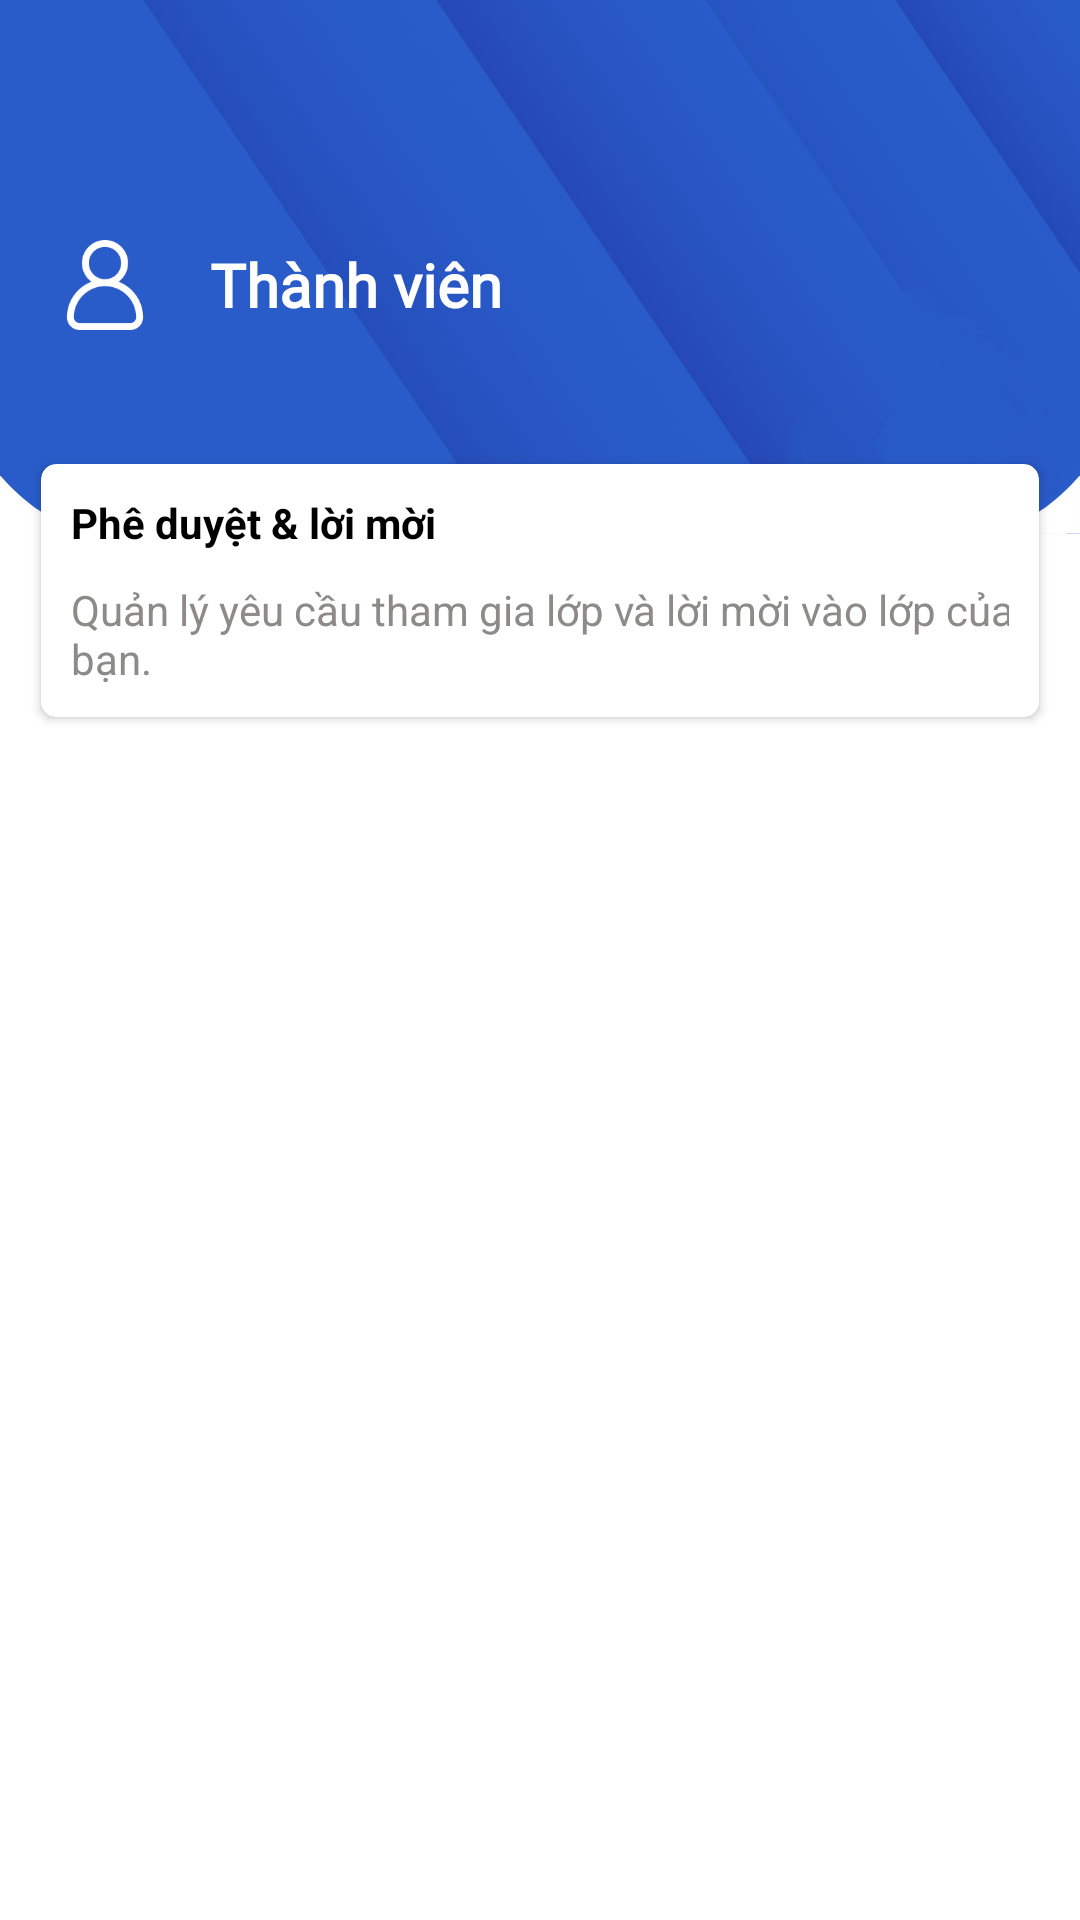

Where to tap for icons on this 1080 x 1920 app screen, as [x,y]:
user: [105,285]
